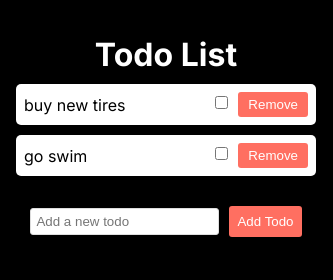
todos spec › should add a new todo
Step 1. Type "Test new todo" into the field with test id "newTodoInput" → (126, 222), box [31,208,220,235]
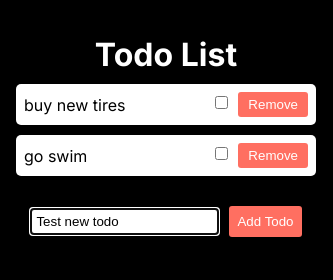
Step 2. Click the button with test id "addTodoButton" → (266, 222), box [230,206,302,237]
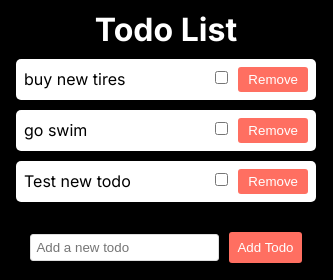
Expected: the element with test id "addTodoButton" is enabled
Result: the list item with test id "todo-3" is shown at [16,161,316,202]
Result: the checkbox with test id "todo-3-checkbox" is shown at [215,173,228,186]
